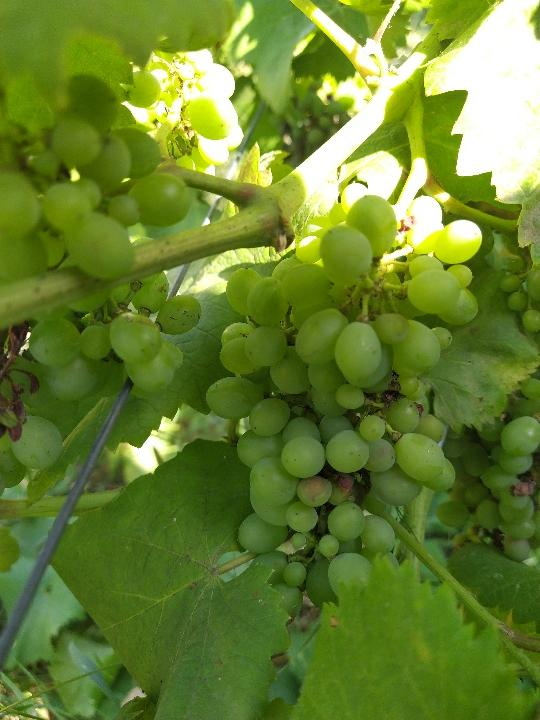grape: (201, 178, 484, 624)
